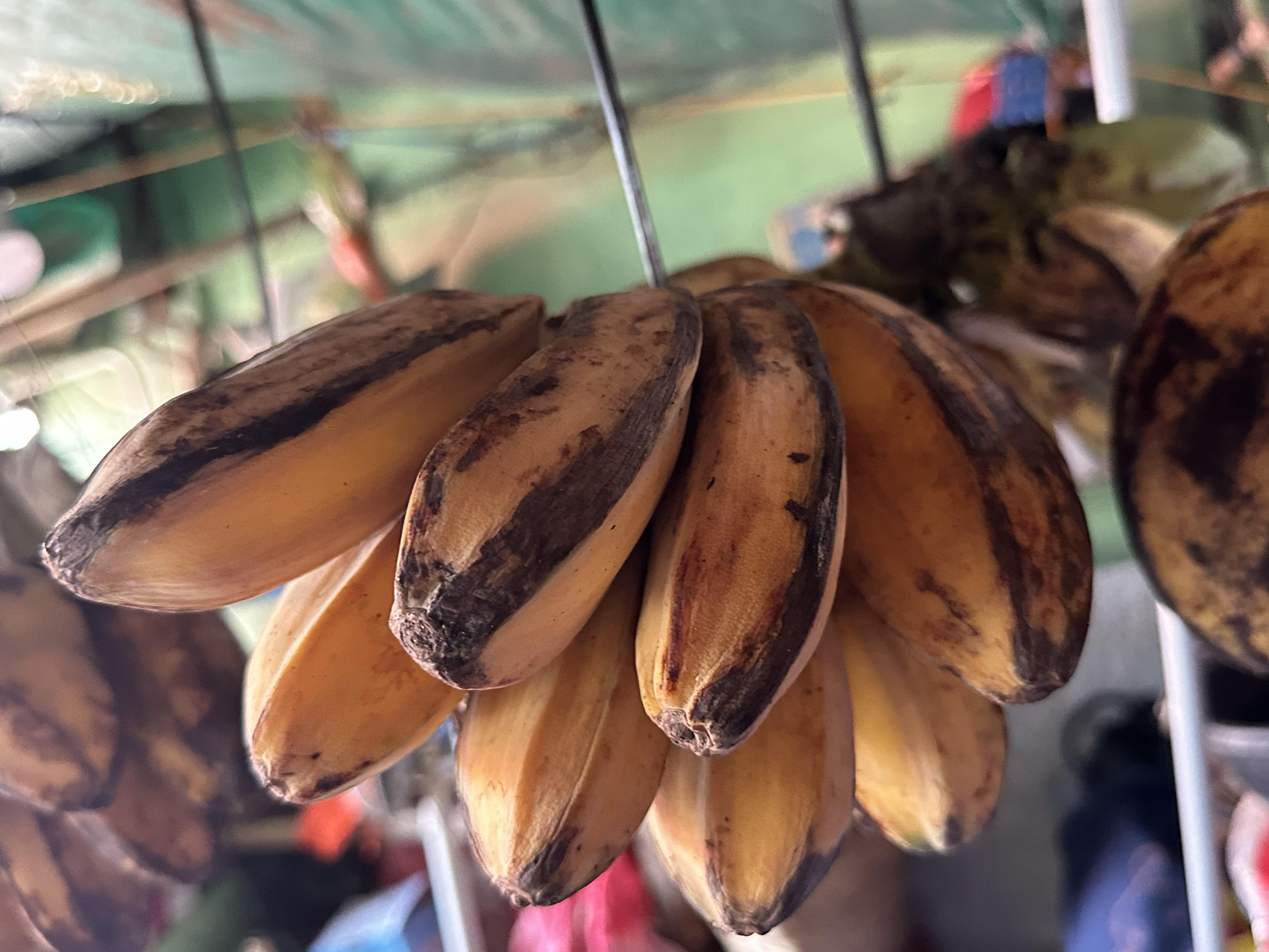ripe: (43, 280, 1092, 935), (0, 441, 268, 952)
